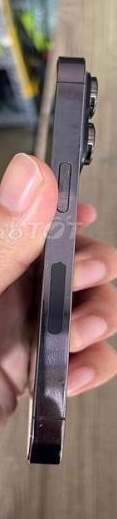scratch: (9, 390, 80, 461)
